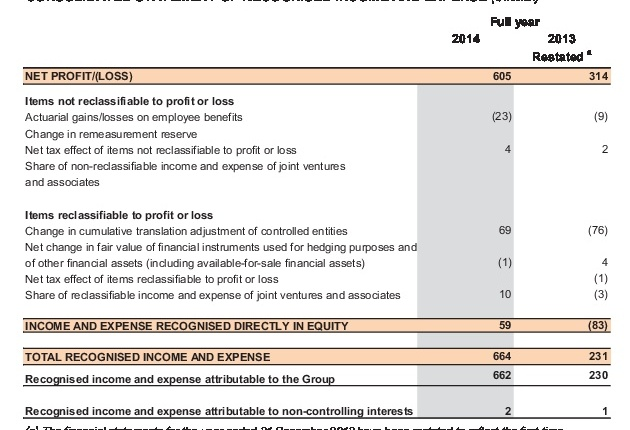table: (0, 0, 630, 430)
